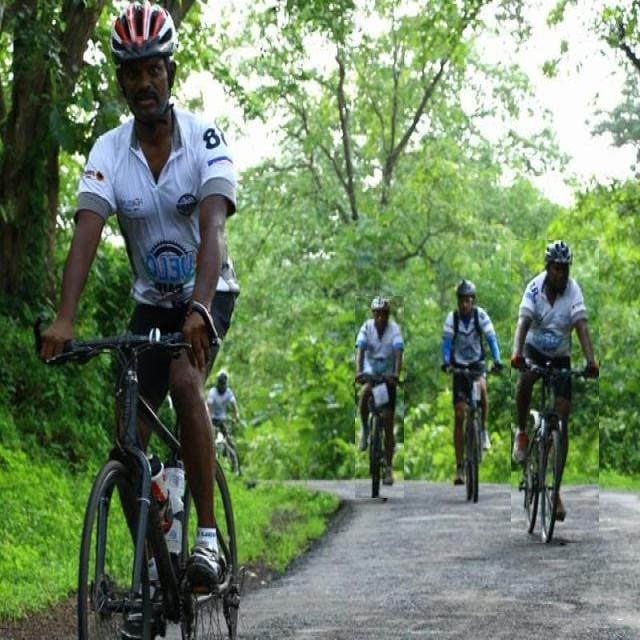bicycle: (35, 3, 239, 638), (511, 240, 599, 543), (442, 280, 502, 501), (355, 297, 404, 498)
